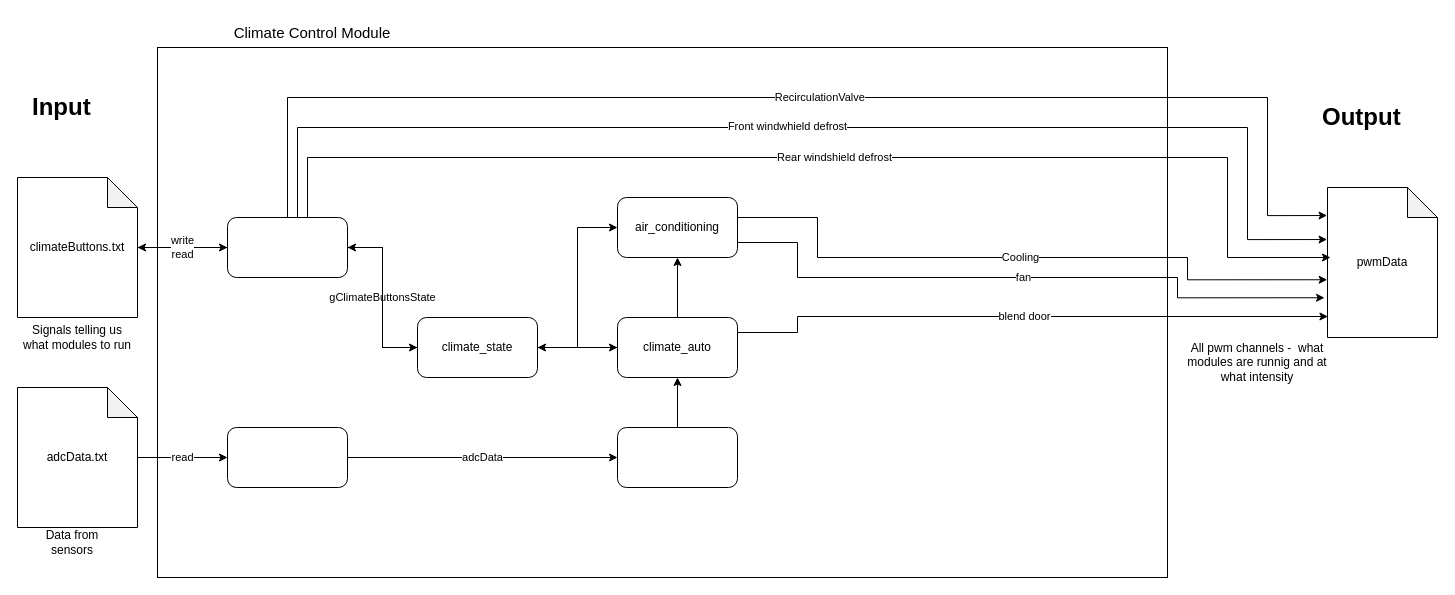
Image size: 1455x595. Some labels were removed from this diagram. The centre of each missing label's shape, as x and y in pixels:
air_sensors: (x=677, y=457)
BSW_ADC_cnf: (x=287, y=457)
climate_btn: (x=287, y=247)
